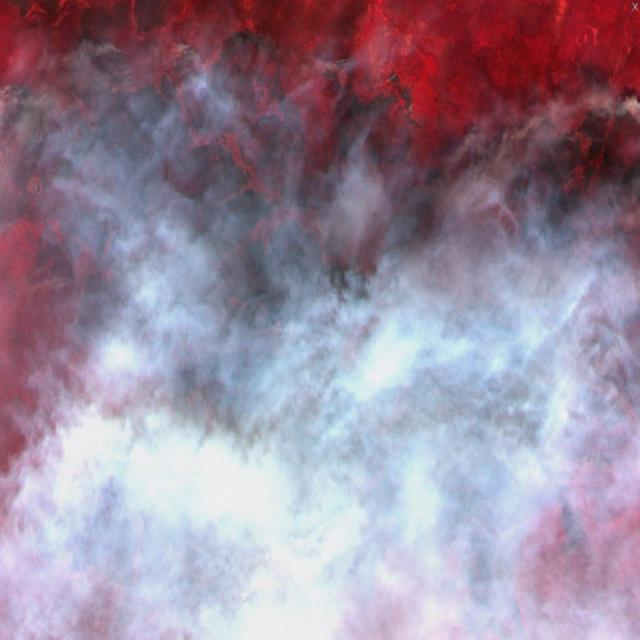fire: (0, 12, 640, 298), (37, 392, 187, 640), (539, 407, 640, 577)
